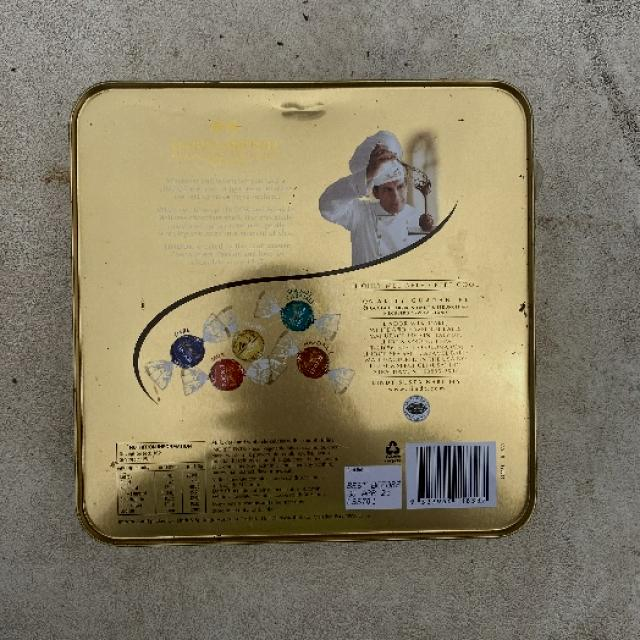inorganic: (64, 77, 546, 547)
